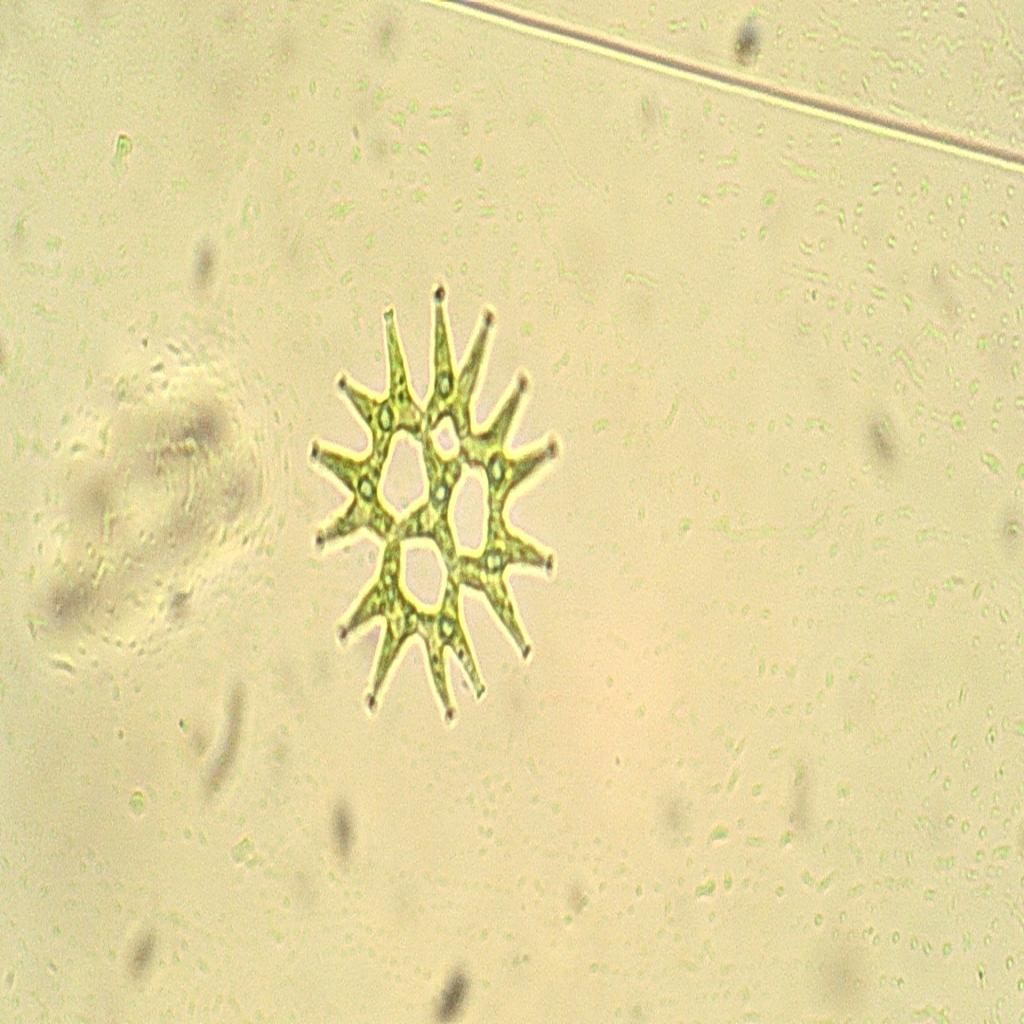Pediastrum_CTH: (303, 258, 574, 746)
